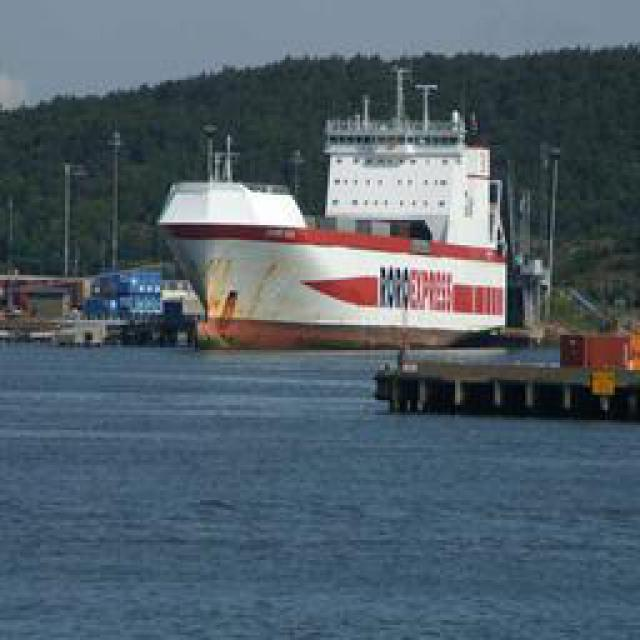Ship: (159, 101, 532, 346)
